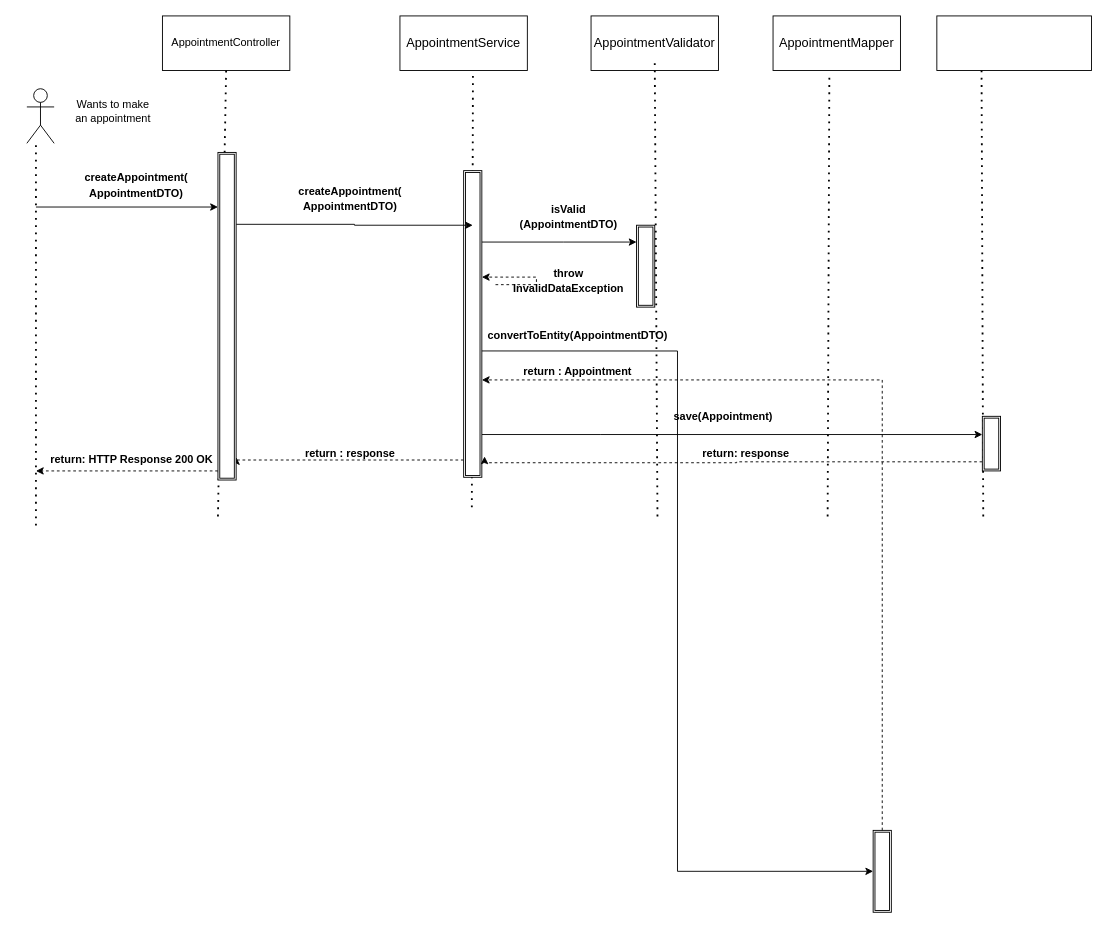
Image size: 1107x928. Some labels were removed from this diagram. The box of each missing label's shape, as (x1, y1, x2, y2) in pixels:
AppointmentRepository: (936, 15, 1092, 71)
Custlomer: (26, 88, 54, 143)
